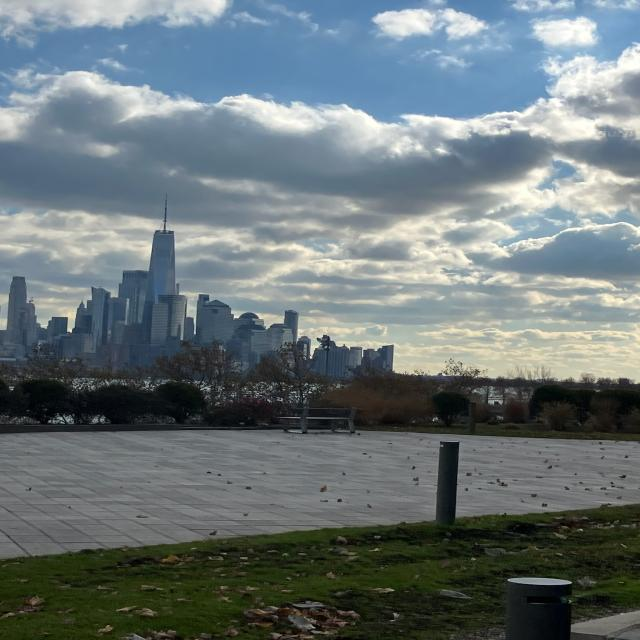WTC: (146, 195, 177, 297)
